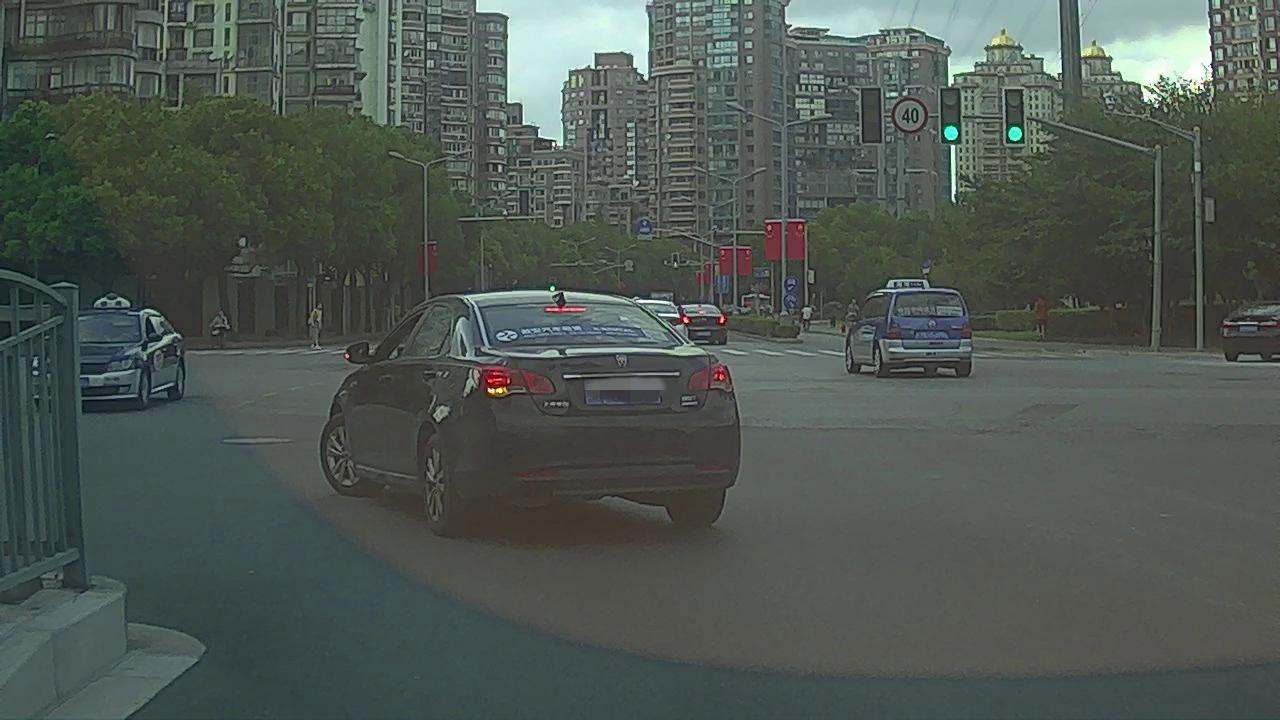traffic_light: (861, 87, 881, 144), (941, 89, 960, 144), (1005, 89, 1024, 143)
